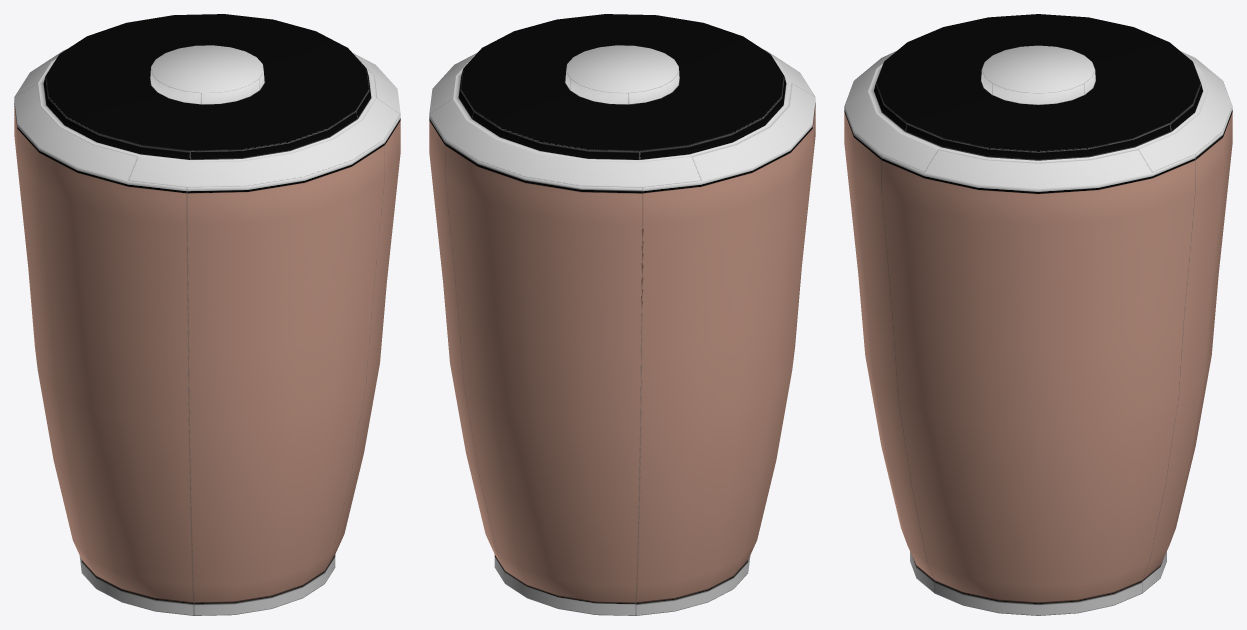
The model's file is ForearmCustom.fbx.
3 views of the same model, side by side, from view 1: azimuth 30°, elevation 25°; view 2: azimuth 150°, elevation 25°; view 3: azimuth 270°, elevation 25° (orthographic).
Parts seen in each view (by area): view 1: pCylinder1; view 2: pCylinder1; view 3: pCylinder1.
Boxes of the visible parts, x1,y1,x2,y2 form: pCylinder1: [14, 14, 400, 615]; pCylinder1: [429, 14, 815, 615]; pCylinder1: [844, 14, 1232, 615].
Size of the model in its own units: 6 by 8.42 by 6.
1 material, 1 textured.
